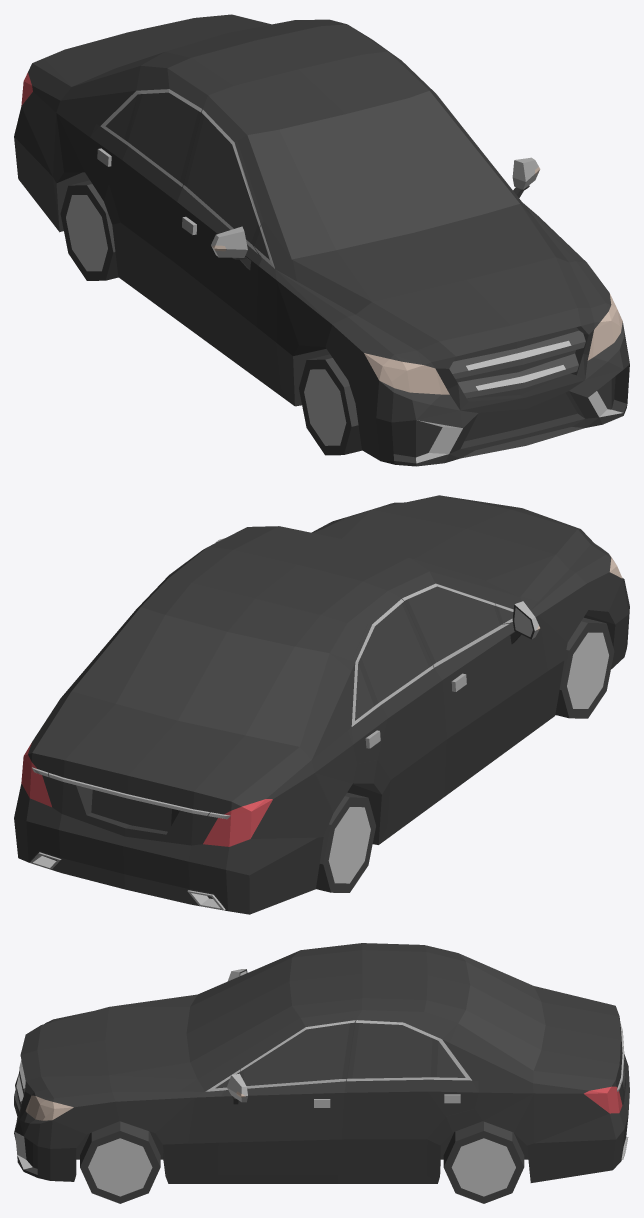
The model's file is CarSedan2Black.fbx.
The picture shows the model from 3 angles, top to bottom: view 1: azimuth 30°, elevation 25°; view 2: azimuth 150°, elevation 25°; view 3: azimuth 270°, elevation 25°; orthographic projection. The views are drawn at different scales.
Visible parts, largest first — view 1: Cube, wheel_fr, wheel_rr; view 2: Cube, wheel_rr, wheel_fr; view 3: Cube, wheel_rl, wheel_fl.
Part boxes in pixels (left/top/right/bottom): Cube: left=14, top=14, right=629, bottom=466; wheel_fr: left=299, top=354, right=361, bottom=455; wheel_rr: left=60, top=180, right=118, bottom=280; Cube: left=14, top=495, right=629, bottom=914; wheel_rr: left=316, top=792, right=375, bottom=892; wheel_fr: left=555, top=617, right=614, bottom=718; Cube: left=14, top=943, right=629, bottom=1183; wheel_rl: left=443, top=1121, right=524, bottom=1203; wheel_fl: left=80, top=1121, right=160, bottom=1203.
Size of the model in its own units: 2.38 by 1.66 by 5.11.
